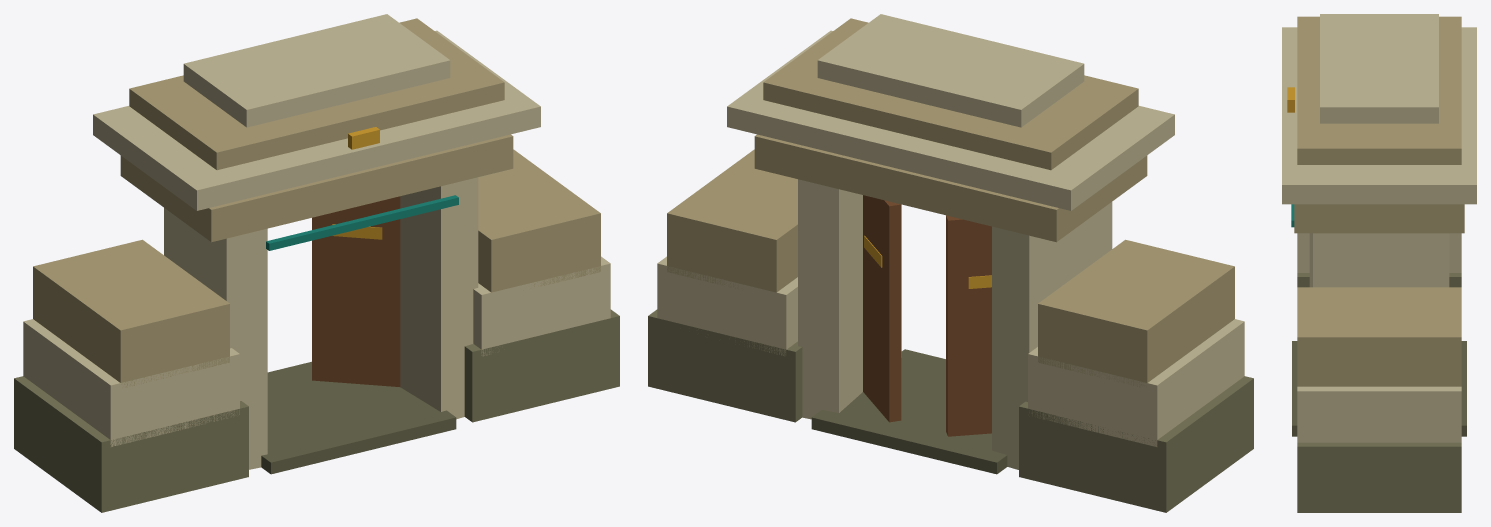
File: south_american-gate.glb
The picture shows the model from 3 angles, left to right: view 1: azimuth 30°, elevation 25°; view 2: azimuth 150°, elevation 25°; view 3: azimuth 270°, elevation 25°; orthographic projection. The views are drawn at different scales.
Visible parts, largest first — view 1: body; view 2: body; view 3: body.
Boxes of the visible parts, left/top/right/bottom form: body: left=14, top=14, right=619, bottom=512; body: left=648, top=14, right=1253, bottom=512; body: left=1282, top=14, right=1476, bottom=512.
Size of the model in its own units: 3.69 by 2.42 by 1.28.
